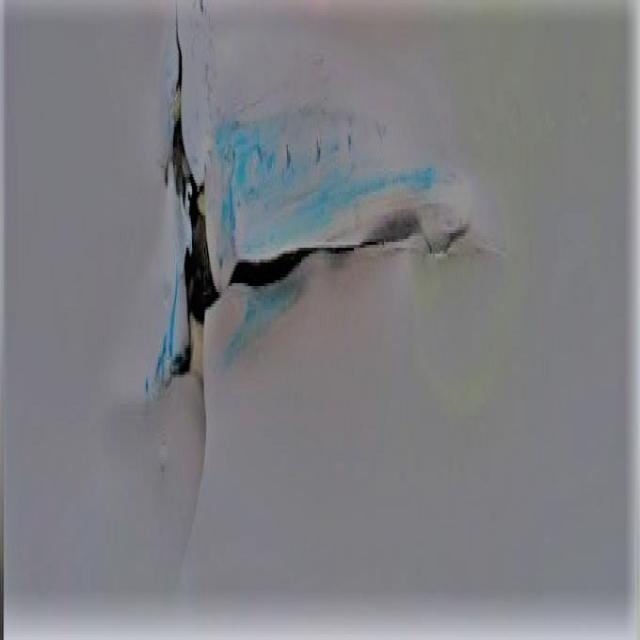Rupture: (158, 27, 506, 454)
